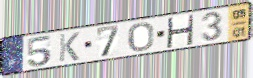3: (200, 10, 225, 43)
5: (26, 33, 53, 69)
7: (96, 23, 121, 59)
H: (165, 14, 196, 49)
K: (57, 31, 81, 64)
O: (127, 21, 155, 53)
